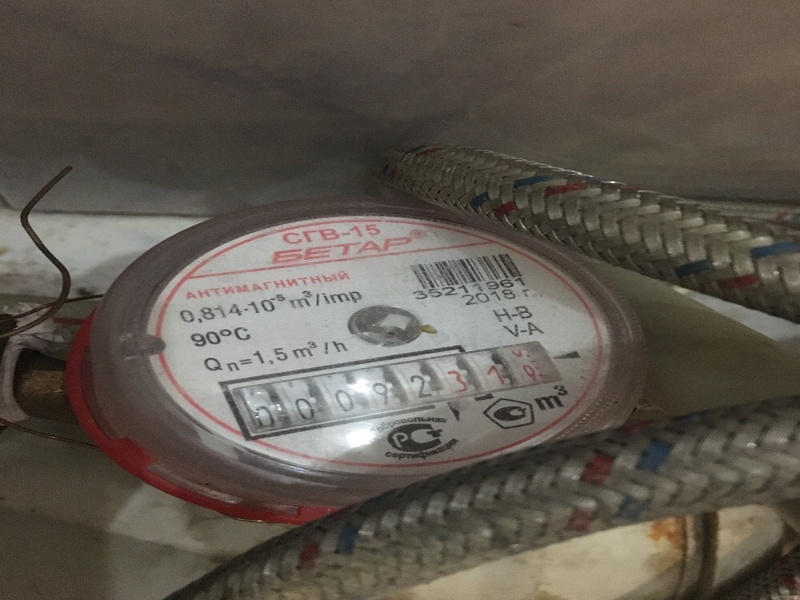meter: (241, 355, 565, 423)
